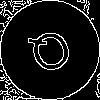Q: (25, 25, 80, 85)
